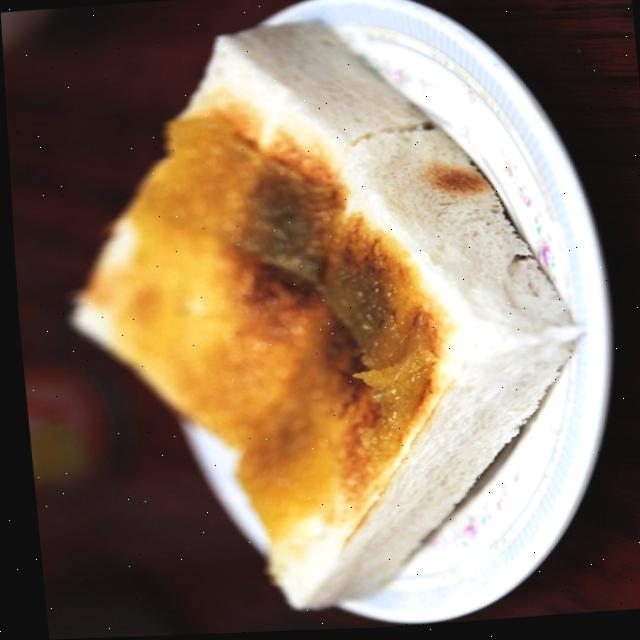面包点心: (45, 0, 616, 634)
